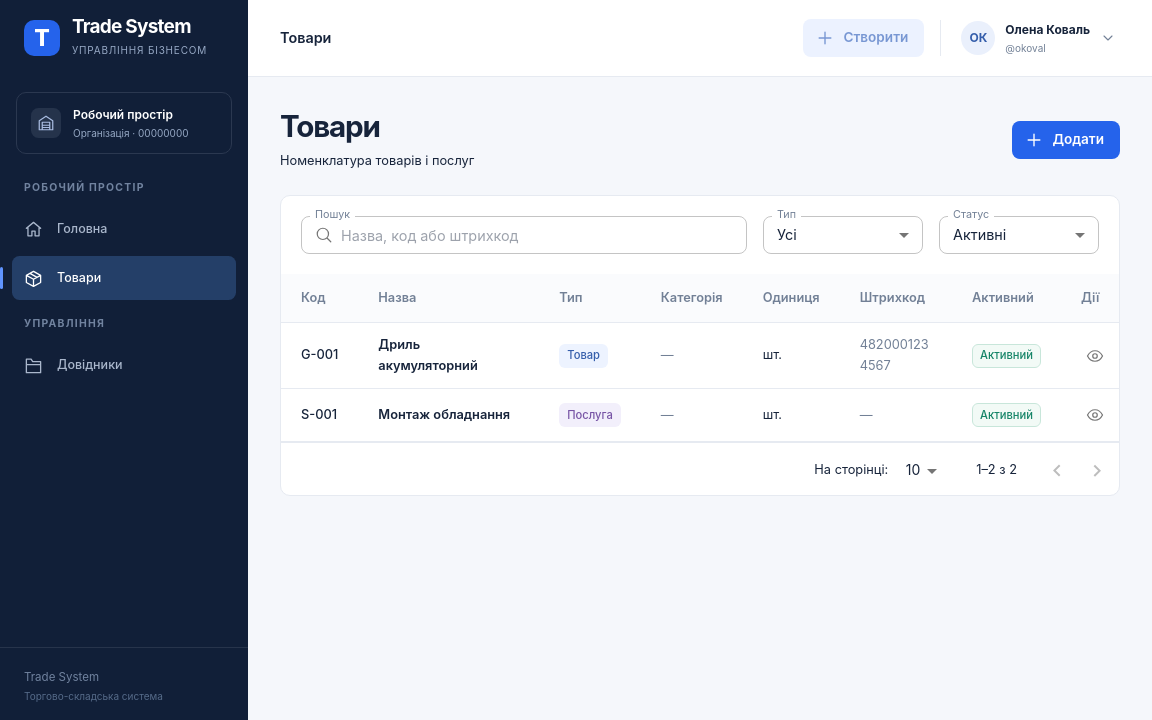
Test: Product UI › shows inactive items with the inactive filter and preserves them with All
expect the link "Дриль акумуляторний" is shown: met, box [378, 337, 478, 373]
Step 1. Click the dropdown named "Статус" → (980, 234), box [953, 226, 1006, 243]
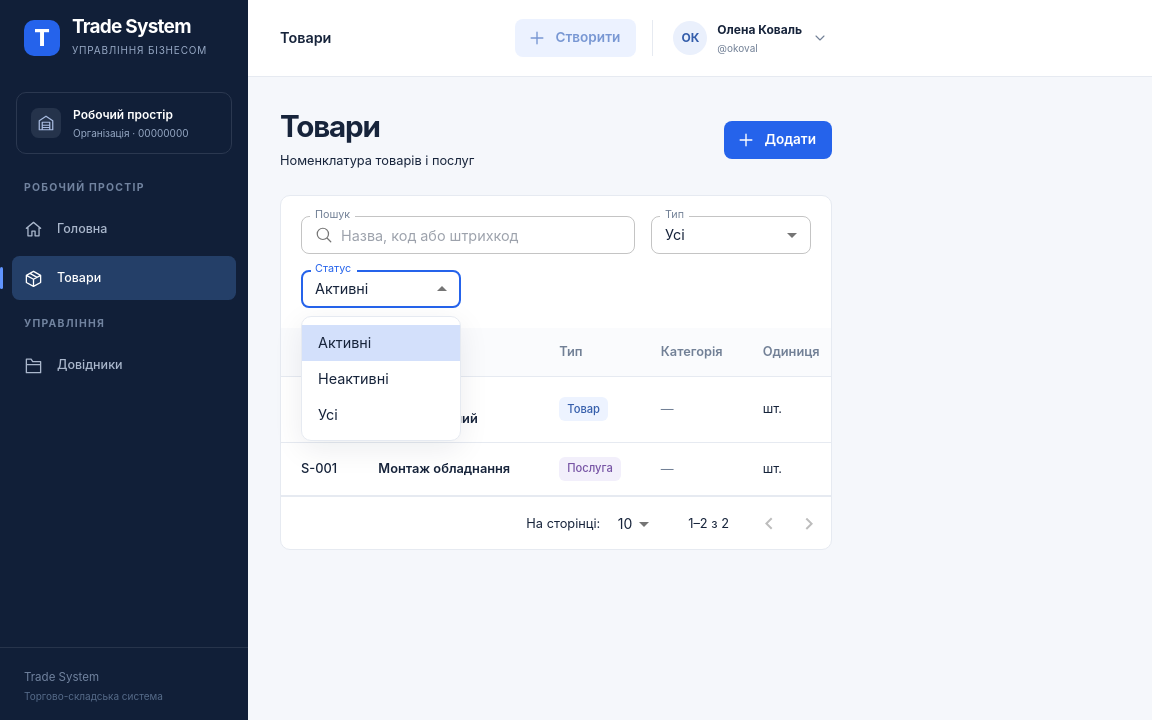
Step 2. Click the option "Неактивні" → (353, 378), box [318, 370, 389, 387]
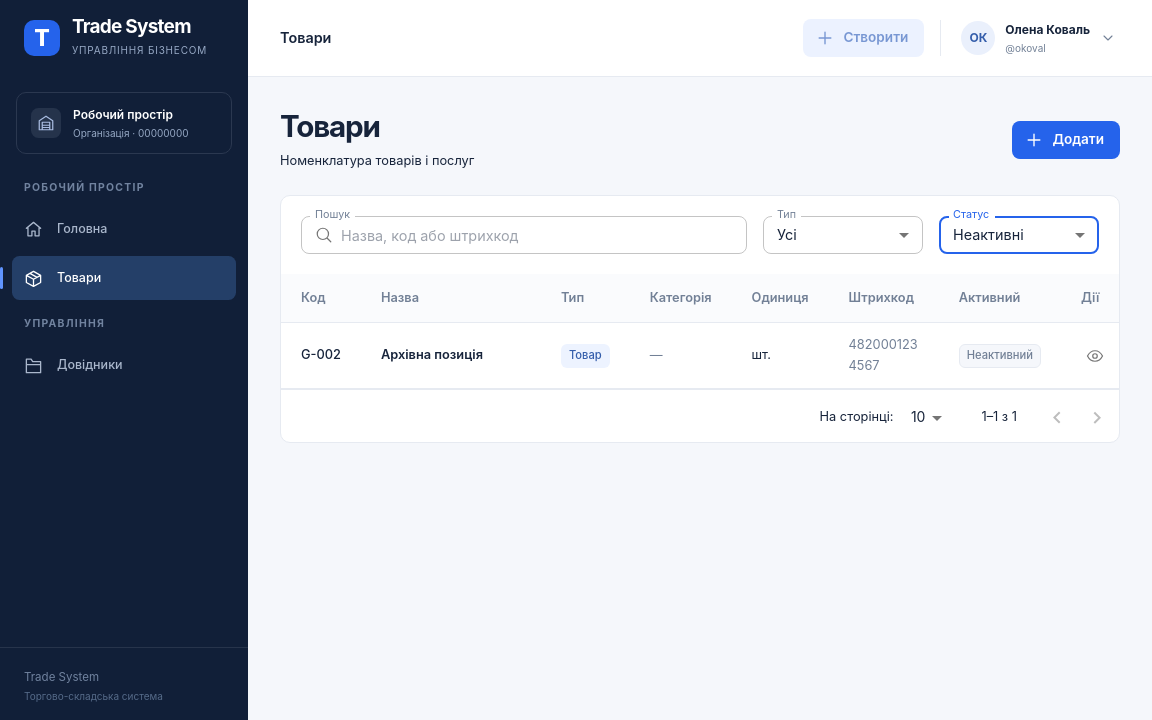
expect the link "Архівна позиція" is shown: met, box [381, 347, 483, 362]
expect the text "Неактивний" is shown: met, box [967, 348, 1033, 362]
Step 3. Click the dropdown named "Статус" → (988, 234), box [953, 226, 1024, 243]
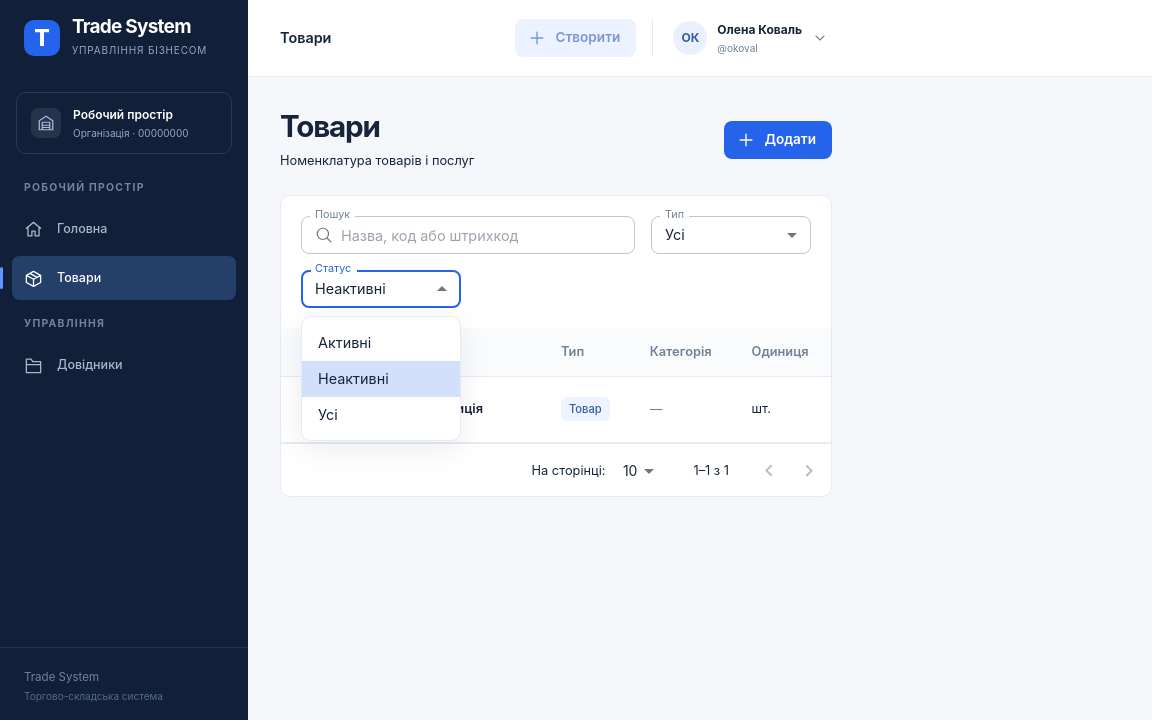
Step 4. Click the option "Усі" → (328, 414), box [318, 406, 338, 422]
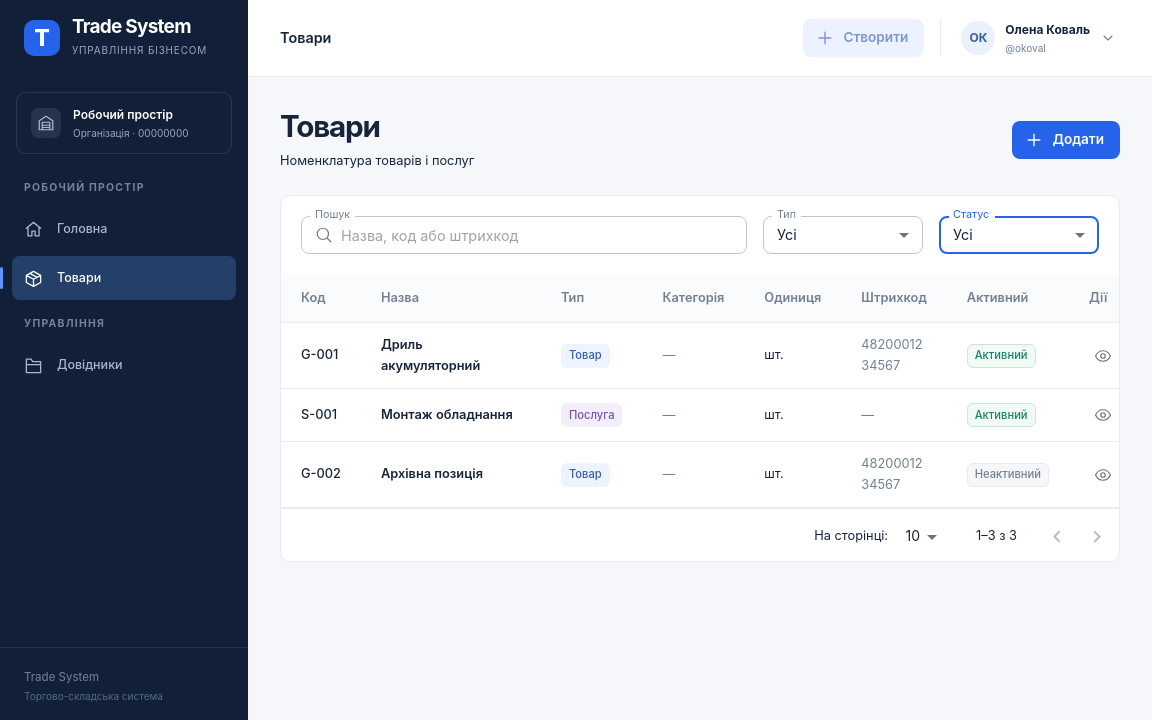
expect the link "Архівна позиція" is shown: met, box [381, 466, 483, 481]
expect the link "Дриль акумуляторний" is shown: met, box [381, 337, 480, 373]
